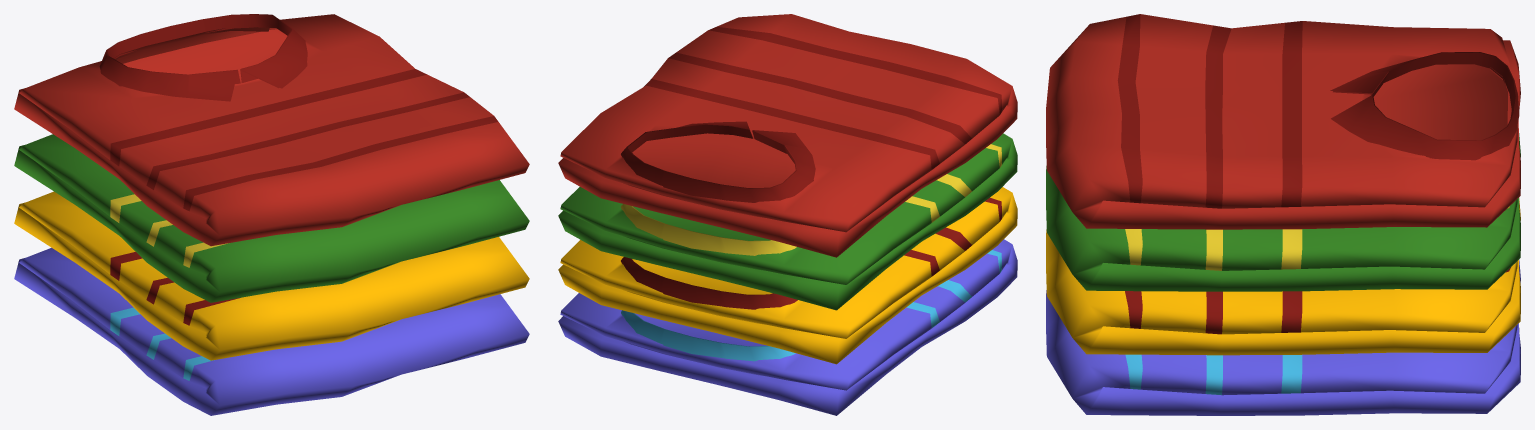
The model's file is Tshirts.fbx.
3 renders of one model, left to right at view 1: azimuth 30°, elevation 25°; view 2: azimuth 150°, elevation 25°; view 3: azimuth 270°, elevation 25°, orthographic. The views are drawn at different scales.
Visible parts, largest first — view 1: Tshirt.012, Tshirt.014, Tshirt.013, Tshirt.015; view 2: Tshirt.012, Tshirt.014, Tshirt.013, Tshirt.015; view 3: Tshirt.012, Tshirt.014, Tshirt.013, Tshirt.015.
Boxes of the visible parts, box(x1,y1,x2,y2) form: Tshirt.012: box(14, 14, 529, 246); Tshirt.014: box(14, 191, 529, 360); Tshirt.013: box(14, 134, 529, 302); Tshirt.015: box(14, 247, 529, 415); Tshirt.012: box(558, 14, 1017, 257); Tshirt.014: box(558, 187, 1017, 364); Tshirt.013: box(558, 133, 1017, 310); Tshirt.015: box(558, 239, 1017, 415); Tshirt.012: box(1046, 14, 1520, 229); Tshirt.014: box(1046, 197, 1520, 355); Tshirt.013: box(1046, 133, 1520, 291); Tshirt.015: box(1046, 259, 1520, 415).
Size of the model in its own units: 106 by 70.15 by 125.
